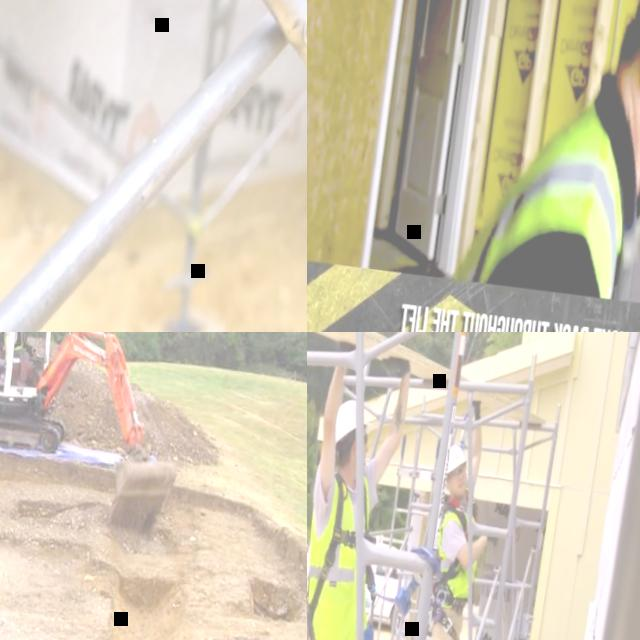Hardhat: (332, 397, 375, 447), (446, 445, 469, 477)
NO-Mask: (449, 478, 467, 496)
Person: (450, 0, 640, 315), (307, 338, 421, 640), (399, 397, 518, 640), (0, 332, 43, 382)
Safety Vest: (454, 93, 639, 301), (307, 469, 386, 640), (429, 496, 486, 602), (0, 332, 25, 354)
vehicle: (0, 332, 202, 547), (307, 528, 440, 631)
